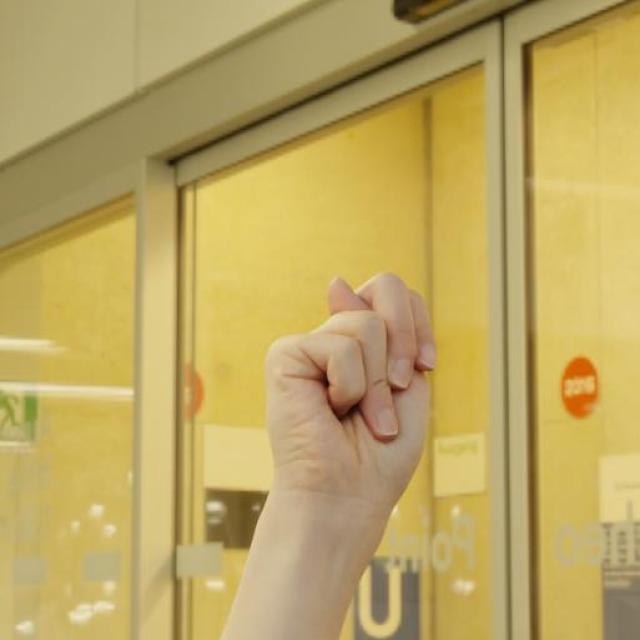N: (261, 269, 438, 506)
